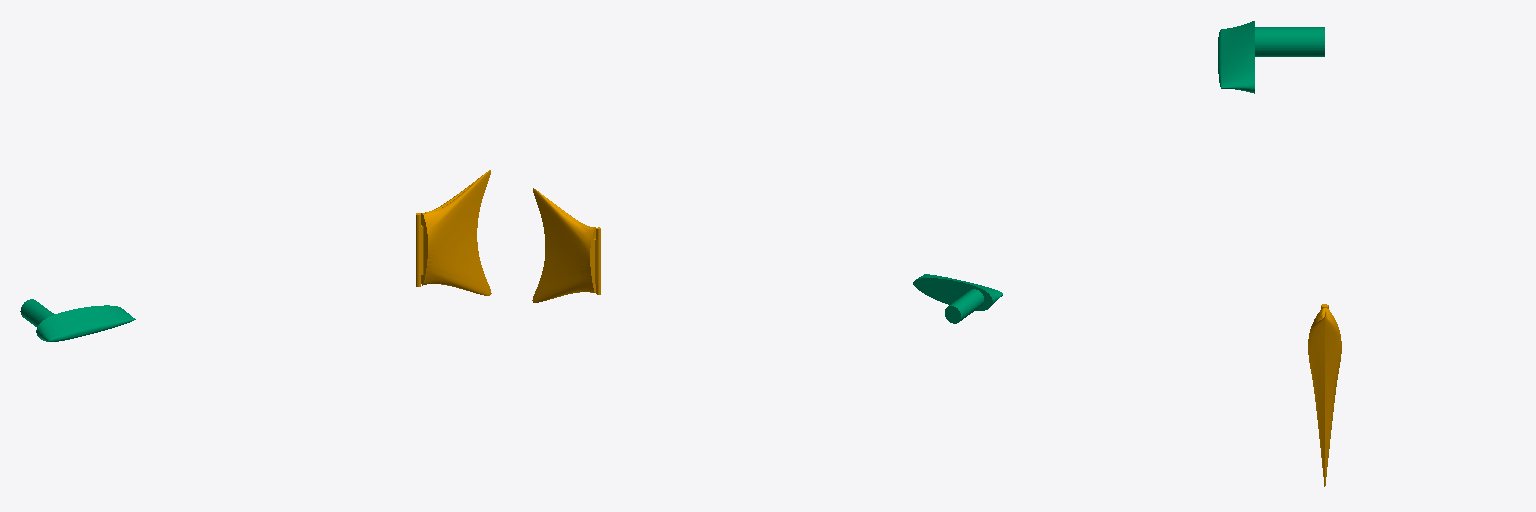
robot.urdf — Biomimetic:
<?xml version='1.0' encoding='utf-8'?>
<robot name="Biomimetic">
    <link name="Rear-Fin">
        <inertial>
            <origin xyz="0.00027484232876314965 1.667656435433429e-07 0.015001340935642522" rpy="0.0 -0.0 0.0" />
            <mass value="0.0009810419371682414" />
            <inertia ixx="6.381203867330296e-08" iyy="6.387757634909987e-08" izz="6.674473572878365e-10" ixy="-5.627546022190751e-12" iyz="2.698986613699847e-12" ixz="-3.075078312341319e-11" />
        </inertial>
        <visual name="Rear-Fin_visual">
            <origin xyz="-0.1685 -0.025000000745058062 0.030000013515570533" rpy="0.0 -0.0 0.0" />
            <geometry>
                <mesh filename="meshes/Rear-Fin.stl" scale="0.001 0.001 0.001" />
            </geometry>
        </visual>
        <collision name="Rear-Fin_collision">
            <origin xyz="-0.1685 -0.025000000745058062 0.030000013515570533" rpy="0.0 -0.0 0.0" />
            <geometry>
                <mesh filename="meshes/Rear-Fin.stl" scale="0.001 0.001 0.001" />
            </geometry>
        </collision>
    </link>
    <link name="Body">
        <inertial>
            <origin xyz="0.013459196472192202 0.025000009593440047 -0.004835075808883665" rpy="0.0 0.0 0.0" />
            <mass value="5.0792171674360125" />
            <inertia ixx="0.00411399632785542" iyy="0.024616479993953312" izz="0.021191256368660247" ixy="-2.2659308847663984e-10" iyz="-2.998658873293314e-11" ixz="0.0002704678775184273" />
        </inertial>
        <visual name="Body_visual">
            <origin xyz="0.0 0.0 0.0" rpy="0.0 0.0 0.0" />
            <geometry>
                <mesh filename="meshes/Body.stl" scale="0.001 0.001 0.001" />
            </geometry>
        </visual>
        <collision name="Body_collision">
            <origin xyz="0.0 0.0 0.0" rpy="0.0 0.0 0.0" />
            <geometry>
                <mesh filename="meshes/Body.stl" scale="0.001 0.001 0.001" />
            </geometry>
        </collision>
    </link>
    <link name="LeftFin_Fish">
        <inertial>
            <origin xyz="0.006823548053191058 0.00013369648074894642 -0.03665847544533363" rpy="0.0 -0.0 0.0" />
            <mass value="0.024267427140330238" />
            <inertia ixx="1.3616359834514143e-06" iyy="3.3058698320572906e-06" izz="2.16676383696618e-06" ixy="1.4180128407756836e-09" iyz="9.427745932779765e-09" ixz="6.7729289353157e-07" />
        </inertial>
        <visual name="LeftFin_Fish_visual">
            <origin xyz="0.001 0.0 -0.04292037" rpy="1.5707963267948966 -0.0 0.0" />
            <geometry>
                <mesh filename="meshes/LeftFin_Fish.stl" scale="0.001 0.001 0.001" />
            </geometry>
        </visual>
        <collision name="LeftFin_Fish_collision">
            <origin xyz="0.001 0.0 -0.04292037" rpy="1.5707963267948966 -0.0 0.0" />
            <geometry>
                <mesh filename="meshes/LeftFin_Fish.stl" scale="0.001 0.001 0.001" />
            </geometry>
        </collision>
    </link>
    <link name="RightFin_fish">
        <inertial>
            <origin xyz="0.006842432279657878 0.0001427224146460633 0.036792827558253964" rpy="0.0 -0.0 0.0" />
            <mass value="0.024440091938355078" />
            <inertia ixx="1.3881346461843194e-06" iyy="3.3590959934531287e-06" izz="2.195215300487522e-06" ixy="-1.2170742152169192e-08" iyz="-1.0626622038161572e-08" ixz="-6.899205534121132e-07" />
        </inertial>
        <visual name="RightFin_fish_visual">
            <origin xyz="0.001 0.0 -0.00707888" rpy="1.5707963267948966 -0.0 0.0" />
            <geometry>
                <mesh filename="meshes/RightFin_fish.stl" scale="0.001 0.001 0.001" />
            </geometry>
        </visual>
        <collision name="RightFin_fish_collision">
            <origin xyz="0.001 0.0 -0.00707888" rpy="1.5707963267948966 -0.0 0.0" />
            <geometry>
                <mesh filename="meshes/RightFin_fish.stl" scale="0.001 0.001 0.001" />
            </geometry>
        </collision>
    </link>
    <joint name="Body_Revolute-1" type="revolute">
        <origin xyz="0.1685 0.025 4.2000000000000004e-06" rpy="3.141592653589793 -0.0 0.0" />
        <parent link="Body" />
        <child link="Rear-Fin" />
        <axis xyz="0.0 0.0 1.0" />
        <limit lower="-0.523599" upper="0.523599" effort="1000000" velocity="1000000" />
    </joint>
    <joint name="Body_Revolute-6" type="revolute">
        <origin xyz="-0.001 0.04292037 0.0" rpy="-1.5707963267948966 -0.0 0.0" />
        <parent link="Body" />
        <child link="LeftFin_Fish" />
        <axis xyz="0.0 0.0 1.0" />
        <limit lower="-0.174533" upper="0.392699" effort="1000000" velocity="1000000" />
    </joint>
    <joint name="Body_Revolute-7" type="revolute">
        <origin xyz="-0.001 0.00707888 0.0" rpy="-1.5707963267948966 -0.0 0.0" />
        <parent link="Body" />
        <child link="RightFin_fish" />
        <axis xyz="0.0 0.0 1.0" />
        <limit lower="-0.174533" upper="0.392699" effort="1000000" velocity="1000000" />
    </joint>
</robot>

--- What the picture shows (computed from the rendered views, not written in the file) ---
The picture shows the robot from 3 angles, left to right: view 1: azimuth 30°, elevation 25°; view 2: azimuth 150°, elevation 25°; view 3: azimuth 270°, elevation 25°; orthographic projection.
Robot: Biomimetic — 4 links, 3 joints (3 revolute); root link Body; default pose: every joint at zero.
Visible links, largest first — view 1: Rear-Fin, LeftFin_Fish; view 2: Rear-Fin, LeftFin_Fish; view 3: LeftFin_Fish, Rear-Fin.
Boxes of the visible links, x1,y1,x2,y2 form: Rear-Fin: (416,170,491,295); LeftFin_Fish: (20,299,135,341); Rear-Fin: (532,188,600,302); LeftFin_Fish: (913,274,1002,323); LeftFin_Fish: (1218,21,1324,93); Rear-Fin: (1308,304,1341,486).
Bounding box of the posed robot: 0.2092 × 0.0336 × 0.0523 m (x, y, z).
2 mesh visuals loaded from 4 distinct referenced files (2 binary STL); not drawn: 2 (reference not matched to a file when rendering).
